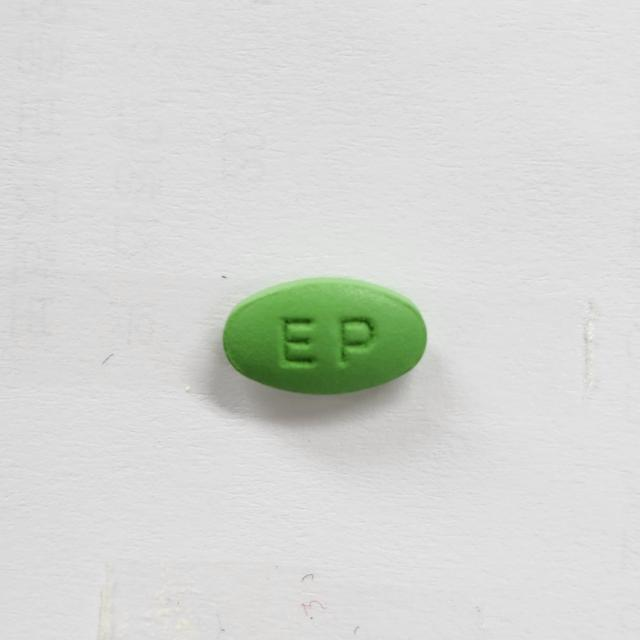pill: (218, 270, 433, 402)
